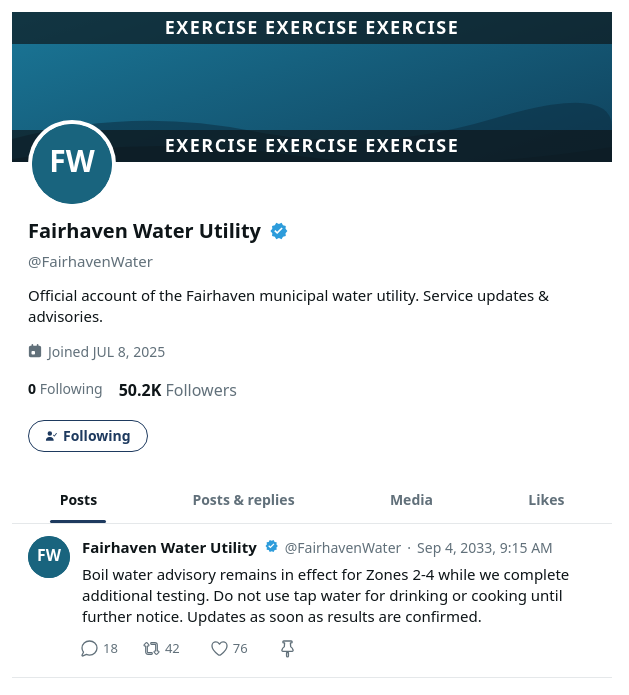
Test: Profile — Media tab (F2 <MediaTabGrid> over authored media posts) › shows the calm "No media yet." state instead of mounting an empty grid
Check: the heading "Fairhaven Water Utility" is shown, box [28,216,261,246]
Click the tab "Media".
click(412, 500)  # box [342,476,481,523]
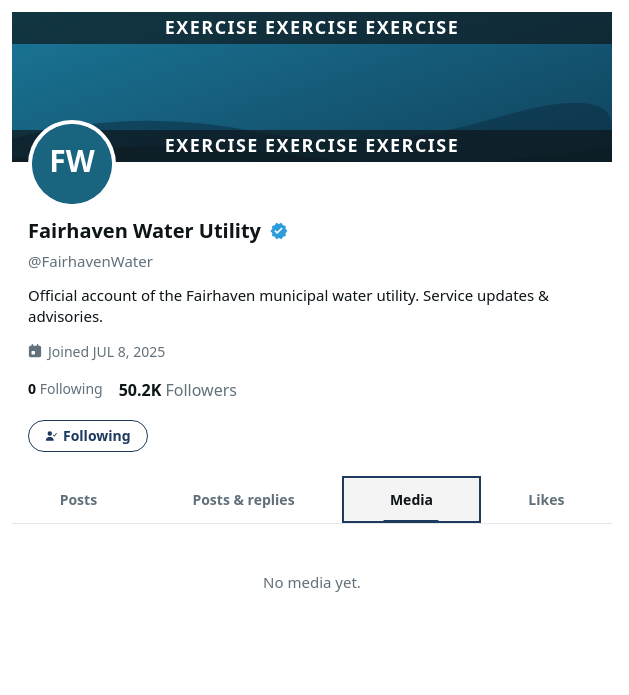
Check: the text "No media yet." is shown, box [263,572,361,592]
